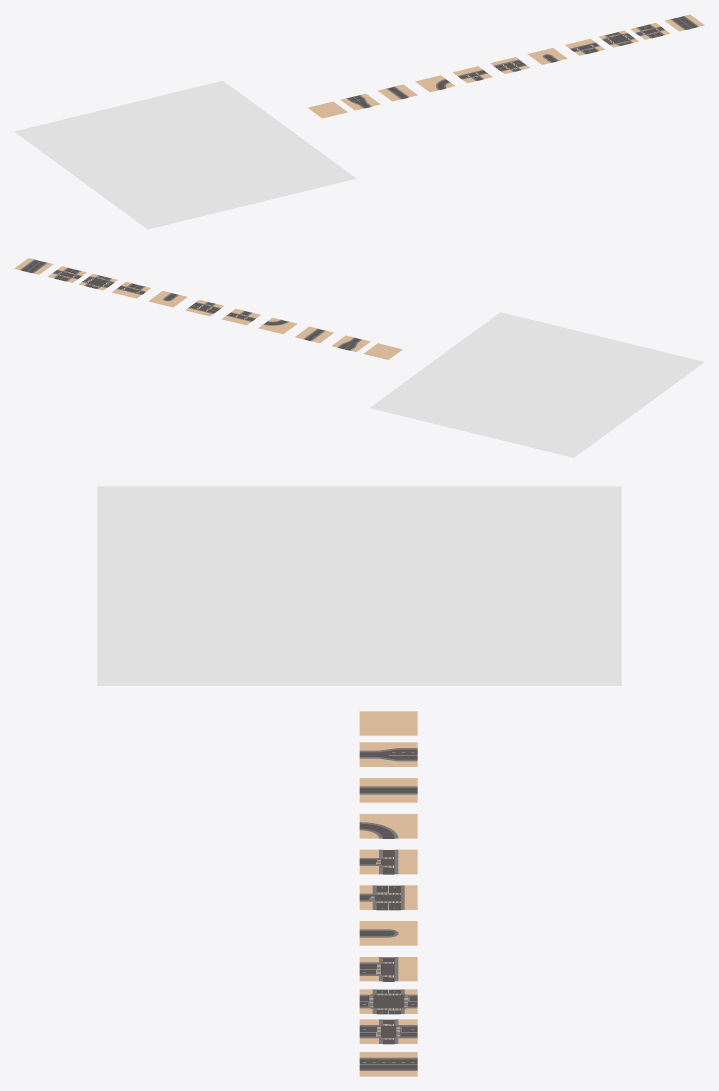
Rendered from ground.glb.
3 views of the same model, one above another, from view 1: azimuth 30°, elevation 25°; view 2: azimuth 150°, elevation 25°; view 3: azimuth 270°, elevation 25° (orthographic). The views are drawn at different scales.
Parts seen in each view (by area): view 1: plane, tile-road-curve, tile-mainroad-road-intersection-t, tile-plain_sand, tile-road-to-mainroad, tile-road-straight, tile-road-mainroad-intersection-t, tile-road-intersection-t, tile-road-end, tile-mainroad-intersection, tile-road-mainroad-intersection, tile-mainroad-straight; view 2: plane, tile-road-to-mainroad, tile-road-mainroad-intersection, tile-road-straight, tile-road-intersection-t, tile-road-end, tile-road-curve, tile-mainroad-straight, tile-plain_sand, tile-road-mainroad-intersection-t, tile-mainroad-intersection, tile-mainroad-road-intersection-t; view 3: plane, tile-road-intersection-t, tile-road-mainroad-intersection-t, tile-mainroad-intersection, tile-road-mainroad-intersection, tile-road-to-mainroad, tile-road-straight, tile-road-end, tile-road-curve, tile-mainroad-straight, tile-plain_sand, tile-mainroad-road-intersection-t.
Part boxes in pixels (bbox=[...]): plane: bbox=[14, 80, 356, 229]; tile-road-curve: bbox=[415, 75, 455, 92]; tile-mainroad-road-intersection-t: bbox=[565, 38, 604, 55]; tile-plain_sand: bbox=[308, 101, 347, 118]; tile-road-to-mainroad: bbox=[340, 93, 380, 110]; tile-road-straight: bbox=[378, 84, 417, 101]; tile-road-mainroad-intersection-t: bbox=[490, 57, 529, 73]; tile-road-intersection-t: bbox=[453, 66, 492, 83]; tile-road-end: bbox=[527, 48, 567, 64]; tile-mainroad-intersection: bbox=[599, 30, 638, 47]; tile-road-mainroad-intersection: bbox=[630, 23, 670, 39]; tile-mainroad-straight: bbox=[665, 14, 704, 31]; plane: bbox=[370, 312, 704, 457]; tile-road-to-mainroad: bbox=[332, 335, 370, 352]; tile-road-mainroad-intersection: bbox=[48, 266, 86, 282]; tile-road-straight: bbox=[295, 326, 333, 343]; tile-road-intersection-t: bbox=[222, 308, 260, 325]; tile-road-end: bbox=[148, 291, 187, 307]; tile-road-curve: bbox=[258, 317, 297, 334]; tile-mainroad-straight: bbox=[14, 258, 53, 274]; tile-plain_sand: bbox=[363, 343, 402, 359]; tile-road-mainroad-intersection-t: bbox=[185, 299, 223, 316]; tile-mainroad-intersection: bbox=[78, 274, 117, 290]; tile-mainroad-road-intersection-t: bbox=[112, 282, 150, 298]; plane: bbox=[97, 486, 621, 685]; tile-road-intersection-t: bbox=[359, 849, 417, 874]; tile-road-mainroad-intersection-t: bbox=[359, 885, 417, 910]; tile-mainroad-intersection: bbox=[359, 989, 417, 1014]; tile-road-mainroad-intersection: bbox=[359, 1019, 417, 1044]; tile-road-to-mainroad: bbox=[359, 742, 417, 766]; tile-road-straight: bbox=[359, 778, 417, 802]; tile-road-end: bbox=[359, 921, 417, 945]; tile-road-curve: bbox=[359, 814, 417, 838]; tile-mainroad-straight: bbox=[359, 1052, 417, 1076]; tile-plain_sand: bbox=[359, 711, 417, 735]; tile-mainroad-road-intersection-t: bbox=[359, 957, 417, 981].
Bounding box in the file's own units: 727 × 3.33 × 270.
2 materials, 2 textured.
